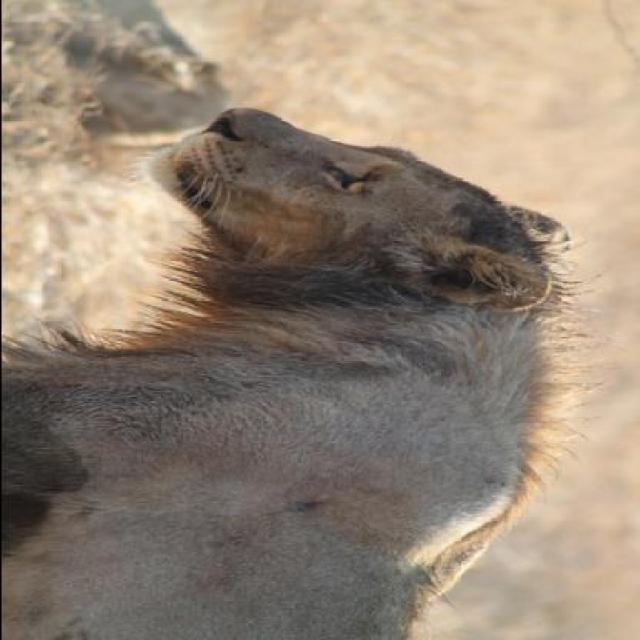Lion: (2, 87, 596, 638)
